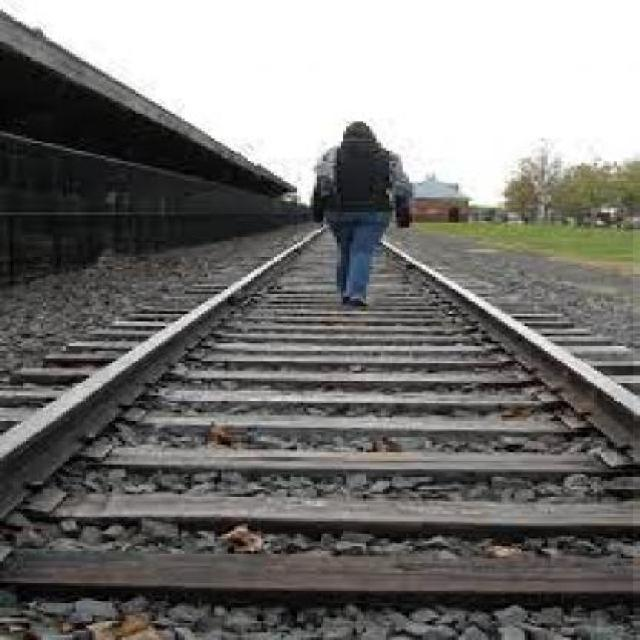rail: (1, 215, 634, 628)
